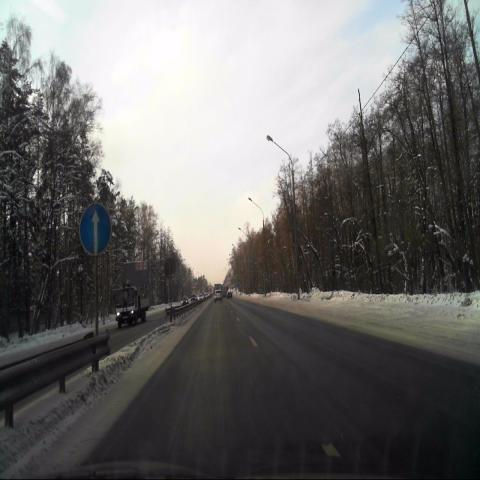4_1_1: (79, 202, 111, 253)
